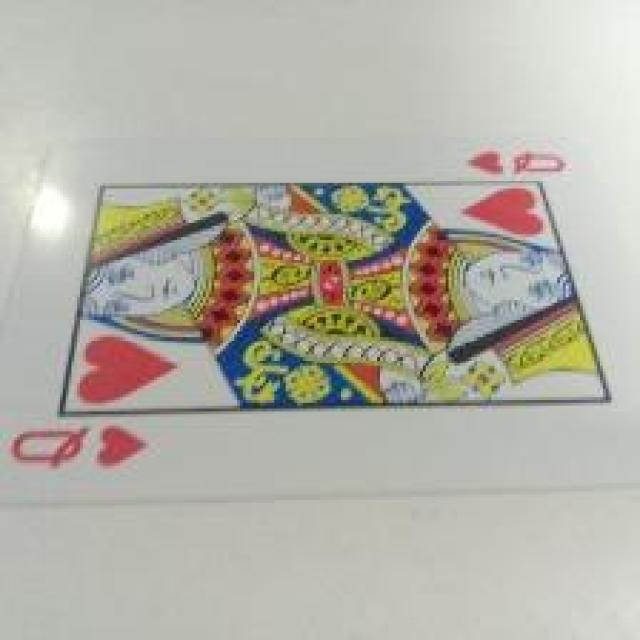Queen of hearts: (0, 134, 640, 502)
